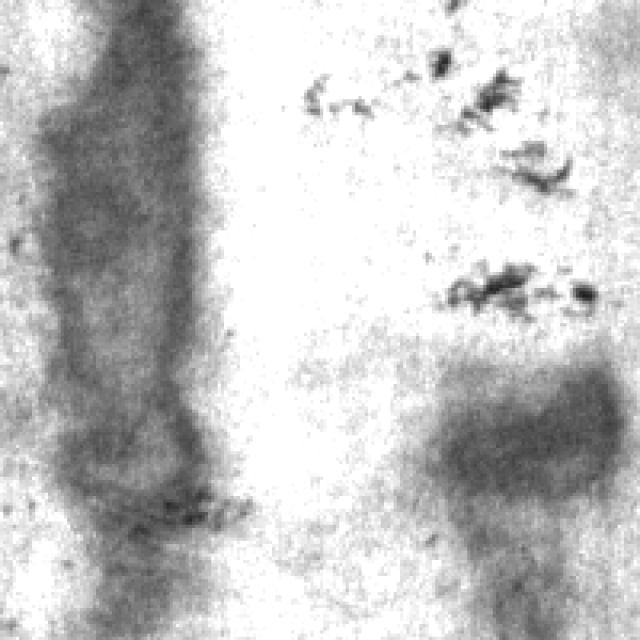patches: (42, 1, 228, 534), (438, 353, 618, 518), (49, 523, 212, 640), (502, 136, 596, 202), (449, 74, 526, 136), (421, 44, 461, 83)
